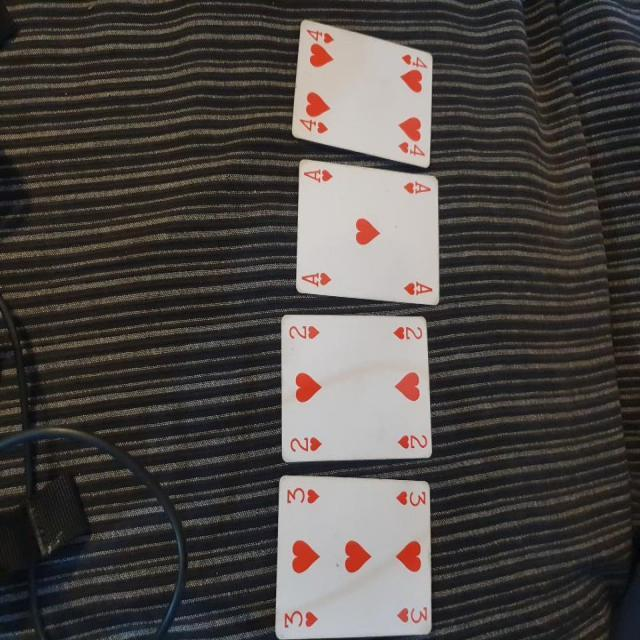2 of hearts: (268, 311, 442, 469)
3 of hearts: (274, 474, 444, 638)
4 of hearts: (291, 10, 438, 170)
ace of hearts: (288, 160, 446, 311)
